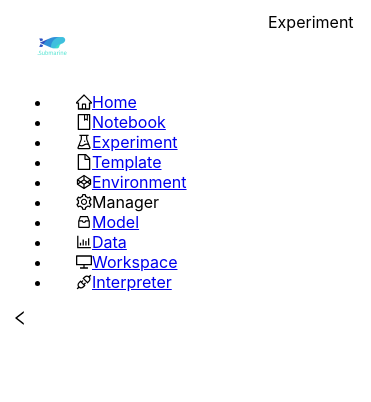
Scenario: Router test › User page router
Click the menu item "Manager" at (118, 202), box [76,192,159,212]
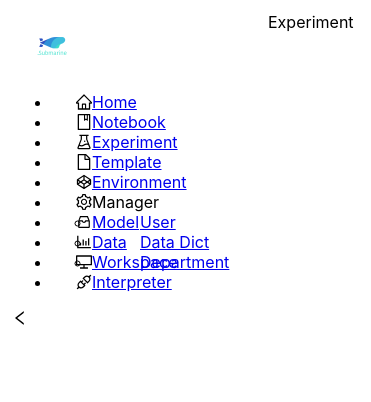
Click the link with test id "user-link" at (158, 222), box [140,212,176,232]
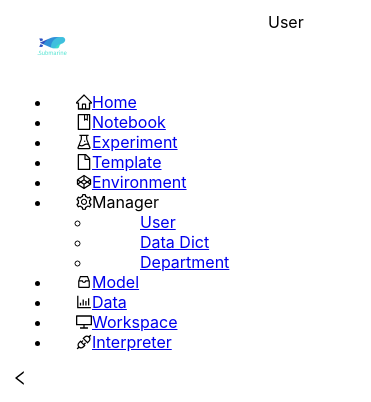
Check: the element with test id "user-page" is shown, box [268,12,304,32]
